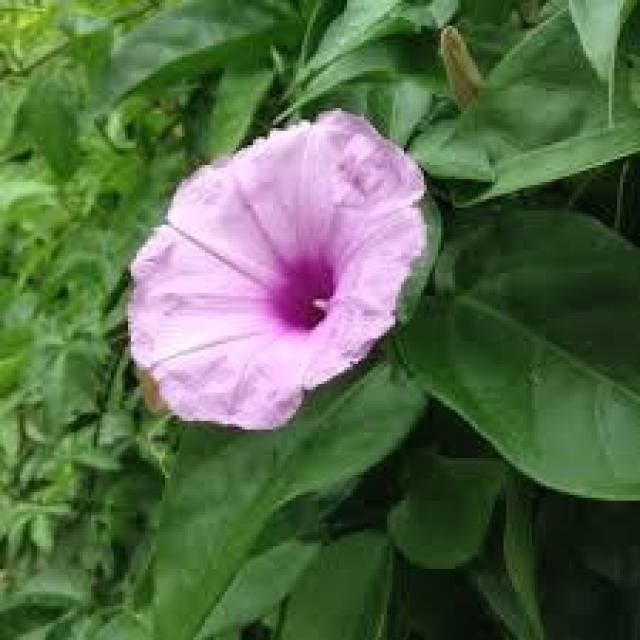organic waste: (121, 101, 442, 411)
